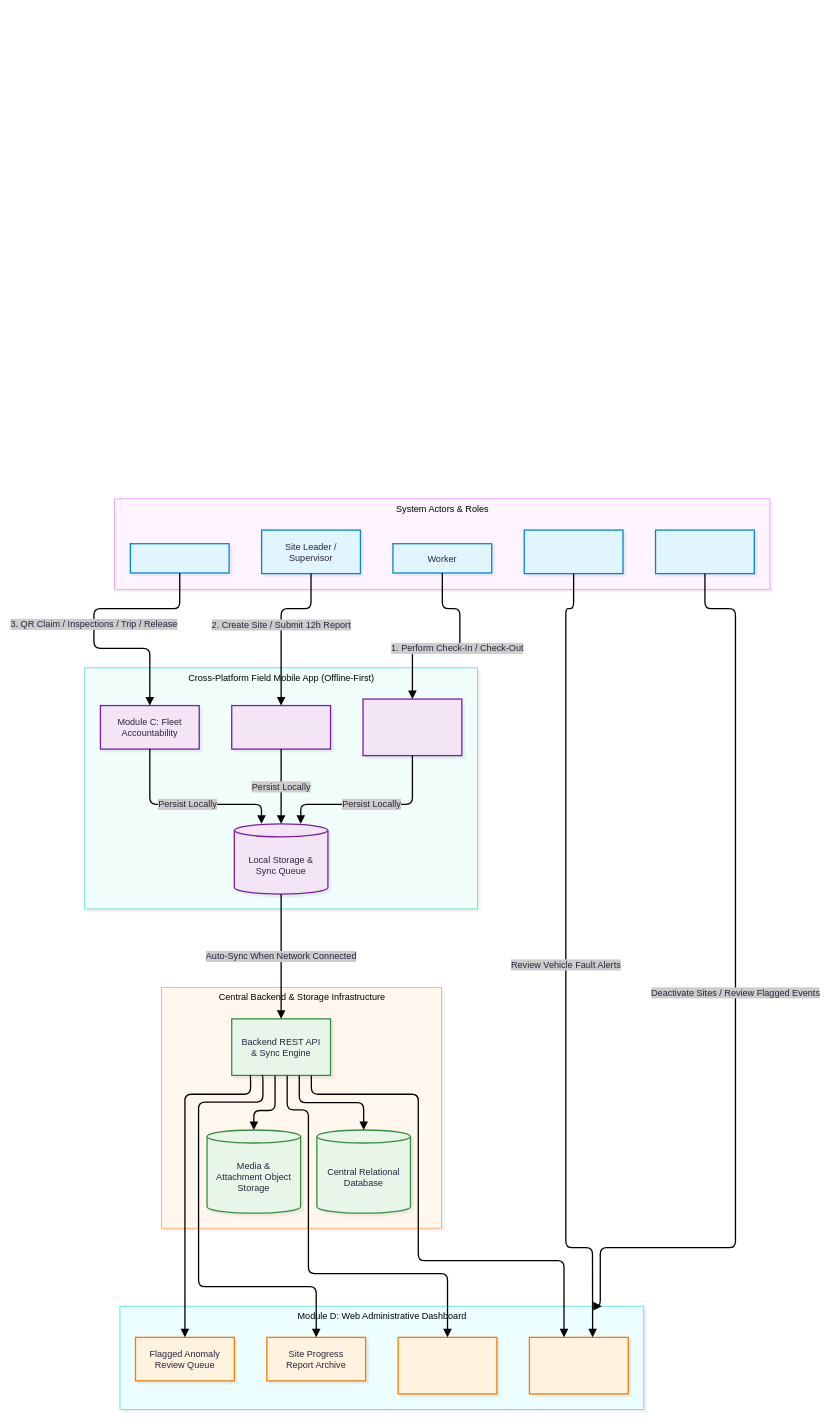
The diagram is 831 pixels wide and 1424 high, and some of its shapes have lost their labels. Each missing label, with the centre of its shape:
"Attendance & Worked Hours Review" belongs at (448,1366).
"Driver" belongs at (180,559).
"Fleet Tracking & Condition History" belongs at (579,1366).
"Maintenance Staff" belongs at (574,553).
"Management / HR Admin" belongs at (706,553).
"Module A: Biometric Attendance" belongs at (413,728).
"Module B: Site & Shift Reporting" belongs at (282,728).
